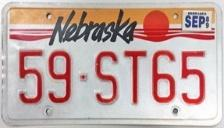5: (17, 49, 46, 105), (180, 48, 207, 106)
6: (152, 47, 176, 106)
9: (47, 48, 74, 105)
S: (95, 49, 120, 107)
T: (123, 48, 148, 107)
